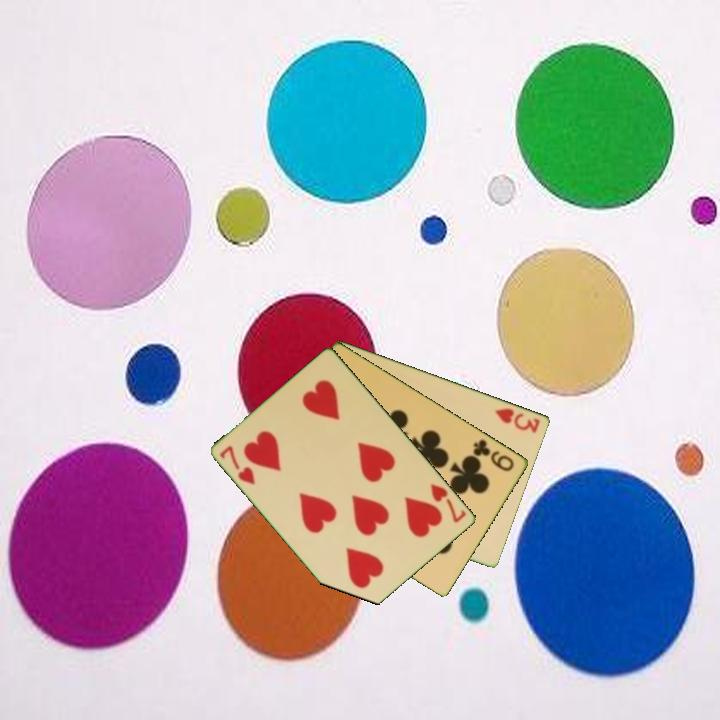3h: (492, 404, 543, 436)
7h: (216, 442, 259, 488), (427, 480, 469, 526)
9c: (470, 435, 518, 474)
